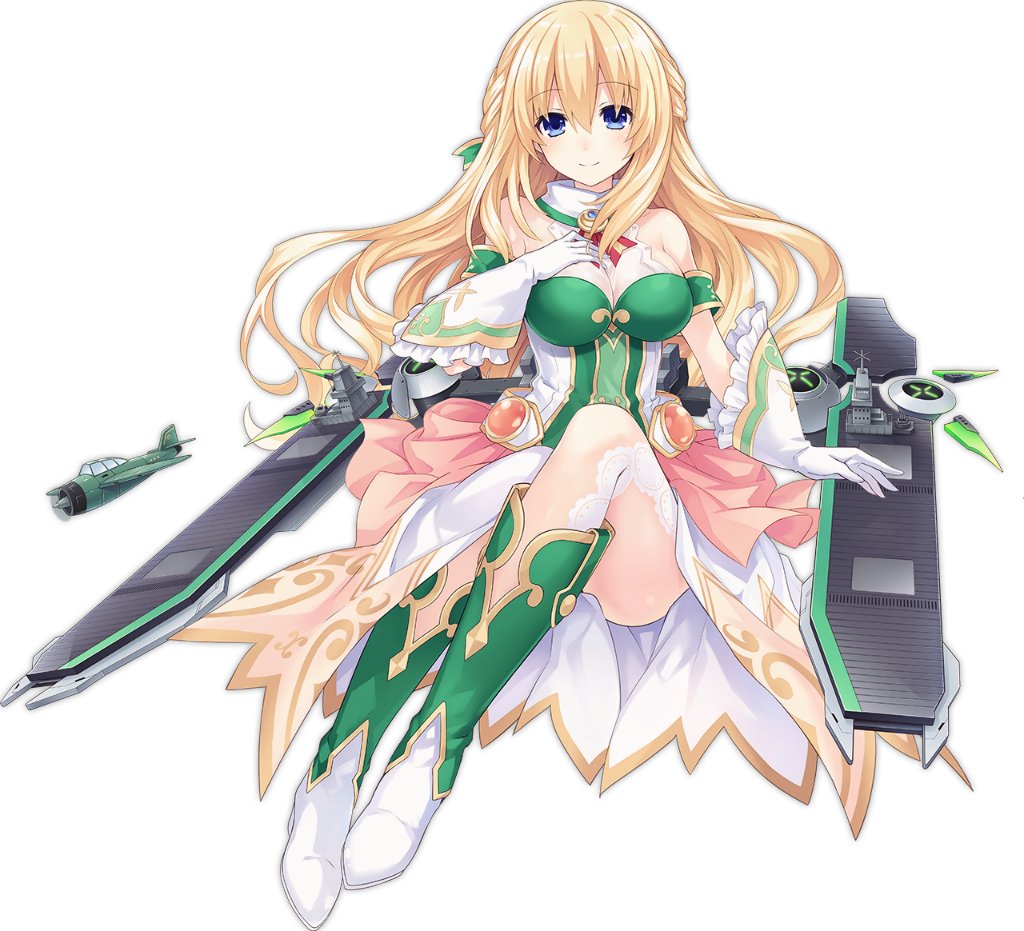person: (304, 1, 763, 842)
